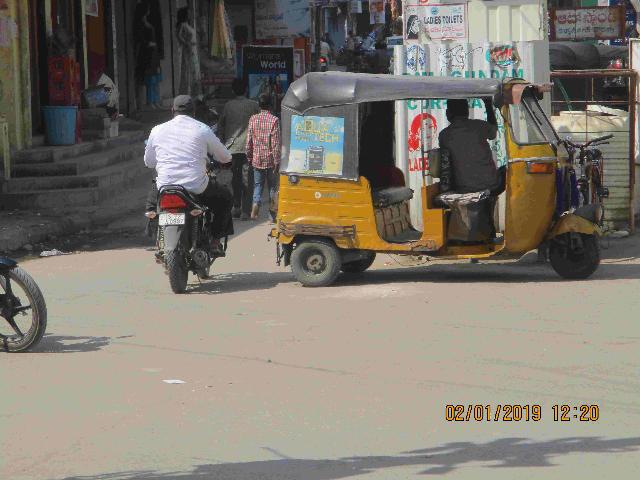motor: (144, 137, 237, 298)
non-helm: (171, 94, 198, 119)
